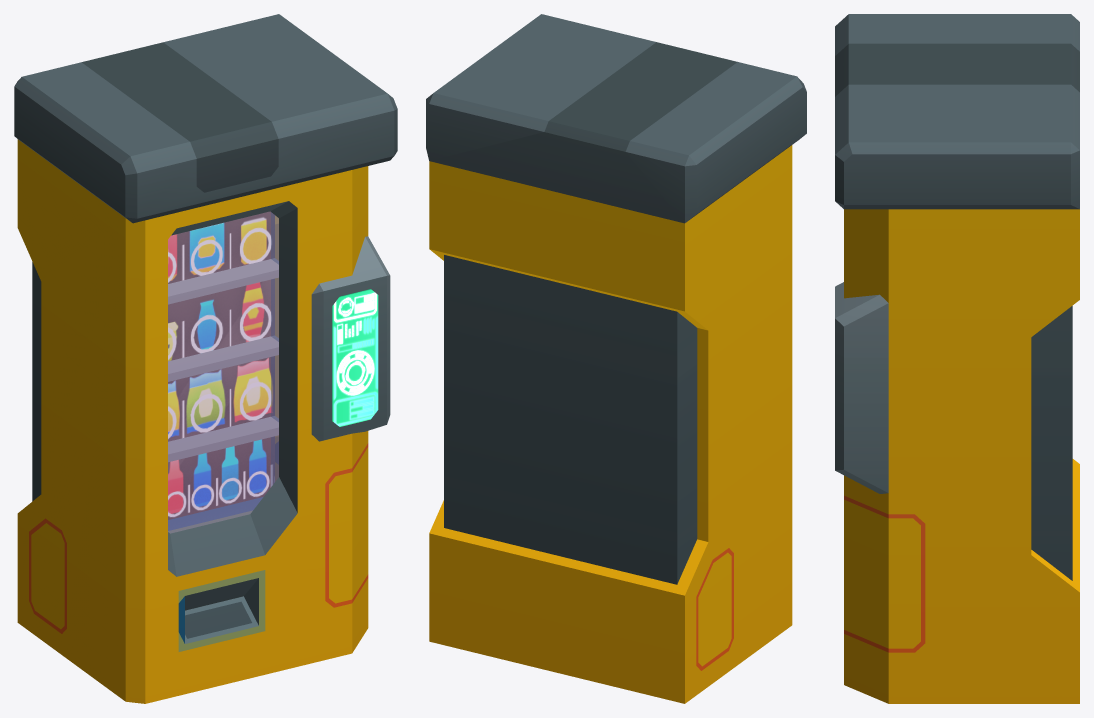
File: Vending_Machine_006.glb
The picture shows the model from 3 angles, left to right: view 1: azimuth 30°, elevation 25°; view 2: azimuth 150°, elevation 25°; view 3: azimuth 270°, elevation 25°; orthographic projection. The views are drawn at different scales.
Parts seen in each view (by area): view 1: Vending_Machine_006; view 2: Vending_Machine_006; view 3: Vending_Machine_006.
Boxes of the visible parts, x1,y1,x2,y2 form: Vending_Machine_006: (14,14,397,703); Vending_Machine_006: (426,14,806,703); Vending_Machine_006: (835,14,1079,703).
Bounding box in the file's own units: 1.09 × 2.1 × 0.83.
4 materials, 4 textured.
